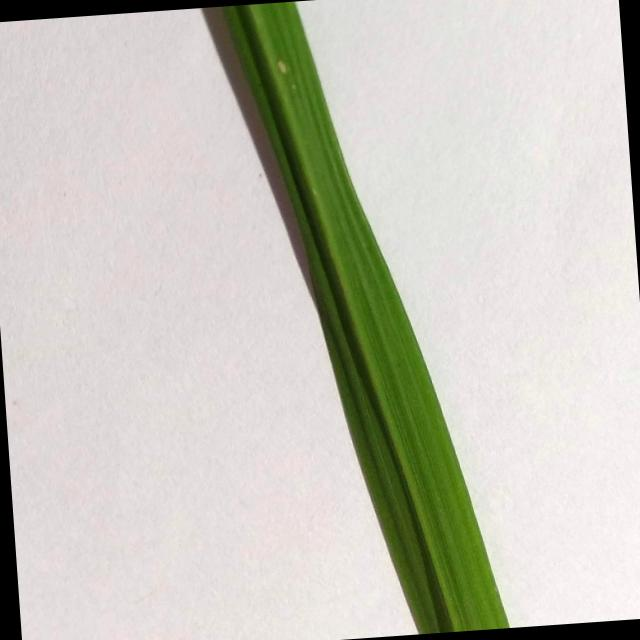Rice_Healthy: (222, 1, 509, 633)
